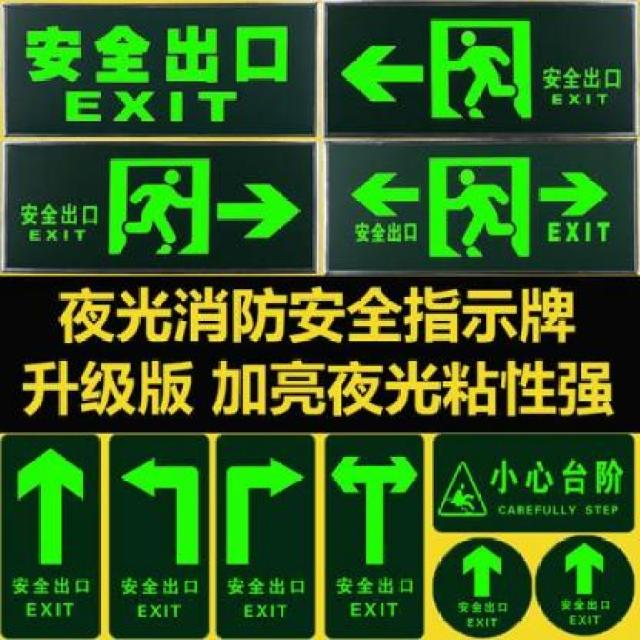exit_sign: (324, 0, 640, 157), (9, 0, 307, 138), (325, 144, 639, 268), (9, 146, 316, 267), (434, 432, 640, 534)
